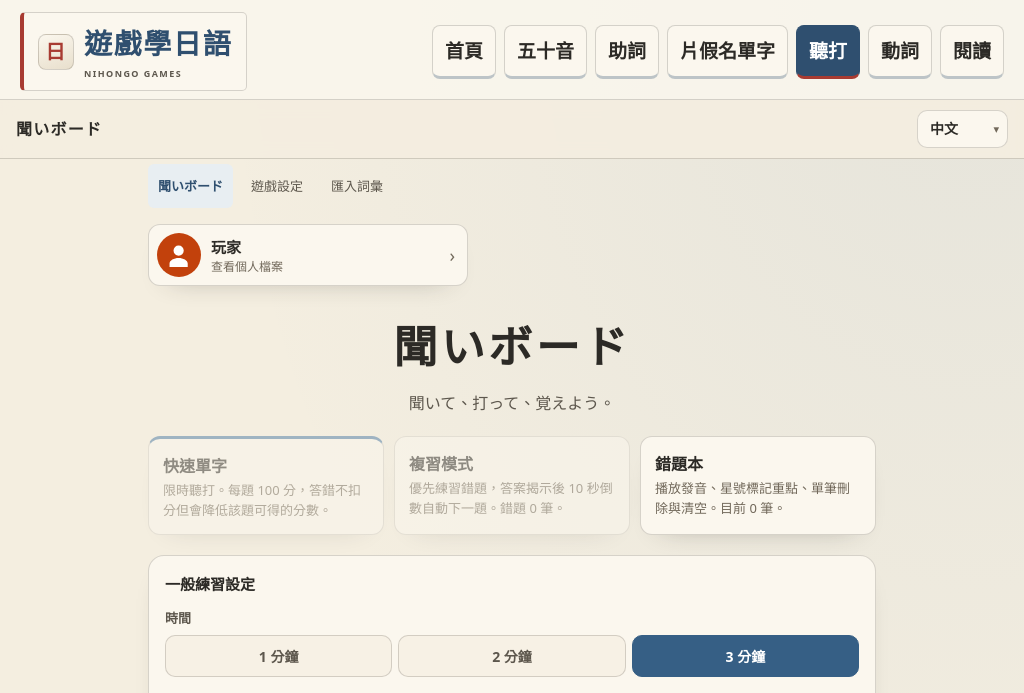
二、切換語言立即生效並保留設定 › 寫入 localStorage，重新載入後沿用
Select "English" in the dropdown with class "lang-switch__select" at [962, 129], box [917, 110, 1008, 148]
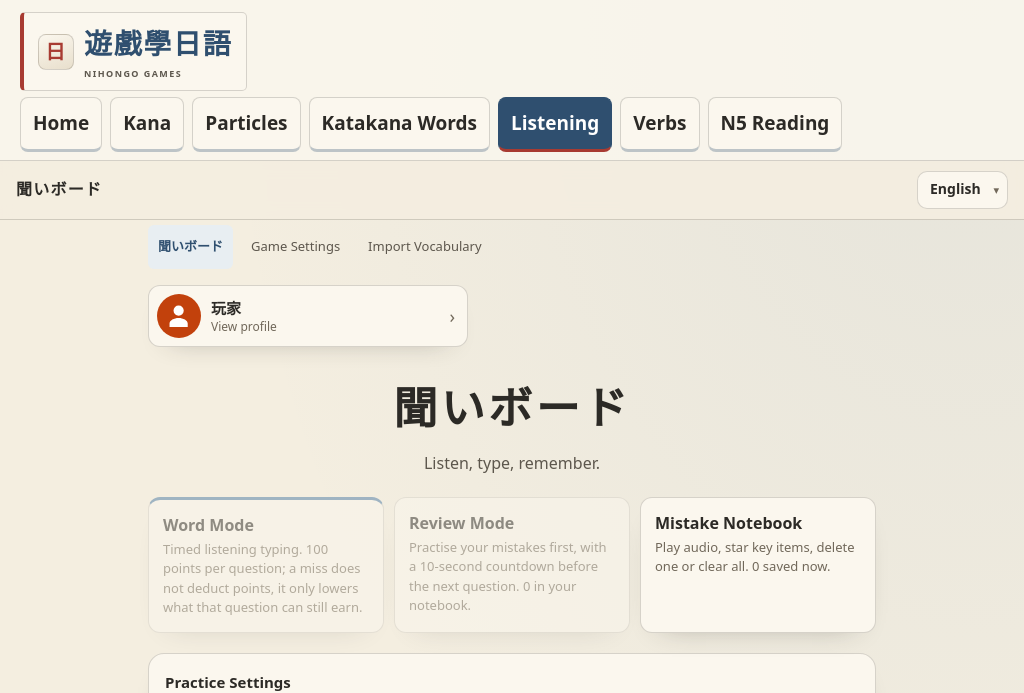
Result: the text "Word Mode" is shown at [163, 514, 254, 536]
